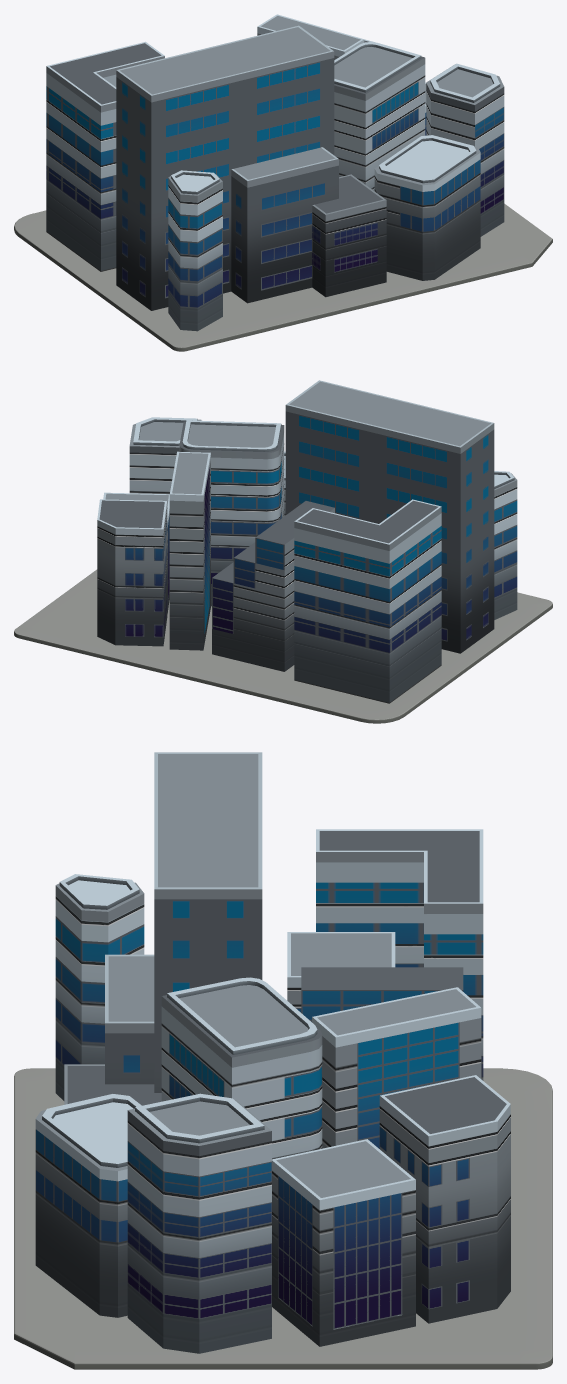
The model's file is Block_SW.glb.
The picture shows the model from 3 angles, top to bottom: view 1: azimuth 30°, elevation 25°; view 2: azimuth 150°, elevation 25°; view 3: azimuth 270°, elevation 25°; orthographic projection. The views are drawn at different scales.
Visible parts, largest first — view 1: Building35, Sidewalk, Building28, Building36, Building27, Building29, Building25, Building26, Building31, Building30; view 2: Building35, Building28, Sidewalk, Building01.002, Building29, Building33, Building30, Building26, Building25, Building32; view 3: Sidewalk, Building26, Building35, Building32, Building33, Building28, Building29, Building27, Building30, Building25, Building36, Building01.002 (+2 smaller).
Part boxes in pixels (bbox=[...]): Building35: bbox=[116, 25, 334, 310]; Sidewalk: bbox=[14, 203, 552, 351]; Building28: bbox=[46, 41, 164, 271]; Building36: bbox=[231, 147, 338, 303]; Building27: bbox=[374, 135, 480, 280]; Building29: bbox=[334, 42, 425, 190]; Building25: bbox=[168, 170, 222, 331]; Building26: bbox=[426, 63, 504, 236]; Building31: bbox=[312, 174, 386, 297]; Building30: bbox=[257, 14, 364, 59]; Building35: bbox=[285, 380, 494, 653]; Building28: bbox=[294, 499, 441, 703]; Sidewalk: bbox=[14, 569, 552, 723]; Building01.002: bbox=[212, 501, 334, 671]; Building29: bbox=[179, 420, 284, 606]; Building33: bbox=[97, 499, 167, 646]; Building30: bbox=[169, 451, 210, 650]; Building26: bbox=[129, 417, 201, 494]; Building25: bbox=[494, 471, 517, 619]; Building32: bbox=[103, 492, 169, 613]; Sidewalk: bbox=[14, 1068, 552, 1369]; Building26: bbox=[127, 1093, 271, 1353]; Building35: bbox=[154, 752, 262, 1092]; Building32: bbox=[272, 1139, 415, 1346]; Building33: bbox=[379, 1075, 510, 1323]; Building28: bbox=[316, 829, 483, 1080]; Building29: bbox=[161, 977, 322, 1159]; Building27: bbox=[35, 1094, 141, 1317]; Building30: bbox=[312, 987, 481, 1148]; Building25: bbox=[55, 874, 144, 1100]; Building36: bbox=[105, 954, 154, 1084]; Building01.002: bbox=[301, 967, 463, 1021].
Bounding box in the file's own units: 51.87 × 27.5 × 39.96.
Materials: 1 (1 with a texture image).
